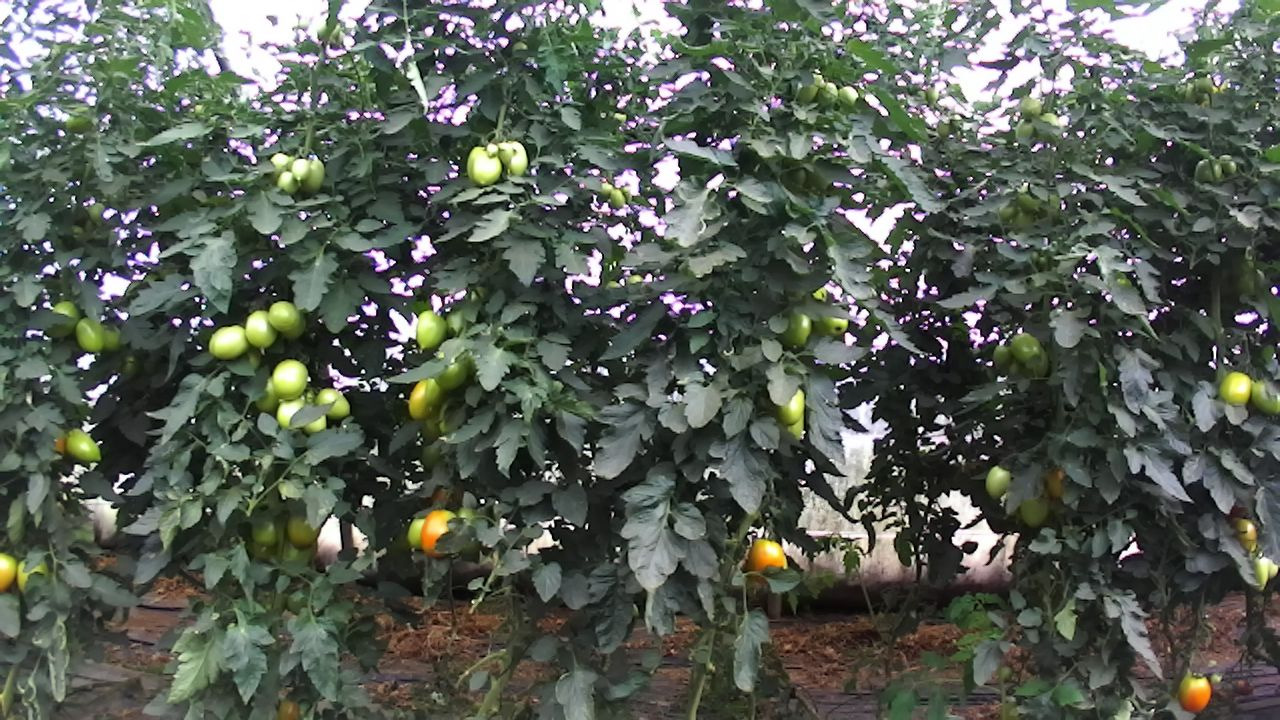tomato: (420, 506, 457, 558), (270, 356, 310, 403), (242, 309, 281, 357), (741, 535, 788, 574), (62, 424, 106, 465), (1175, 670, 1214, 715), (405, 375, 441, 423), (210, 322, 253, 362), (413, 308, 450, 352), (314, 381, 352, 421), (1215, 369, 1254, 407), (431, 356, 471, 393), (72, 314, 107, 356), (265, 297, 303, 334), (468, 150, 504, 188), (778, 310, 813, 348), (1007, 331, 1042, 368), (775, 386, 806, 427), (285, 515, 321, 550), (501, 138, 530, 178), (1249, 379, 1280, 416), (274, 395, 307, 429), (984, 462, 1012, 501), (1019, 495, 1050, 530), (0, 550, 20, 596), (403, 514, 427, 551), (290, 155, 313, 183), (496, 140, 514, 166), (483, 142, 500, 159)
